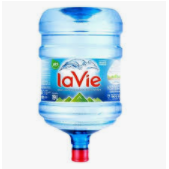Bottle: (39, 8, 121, 163)
